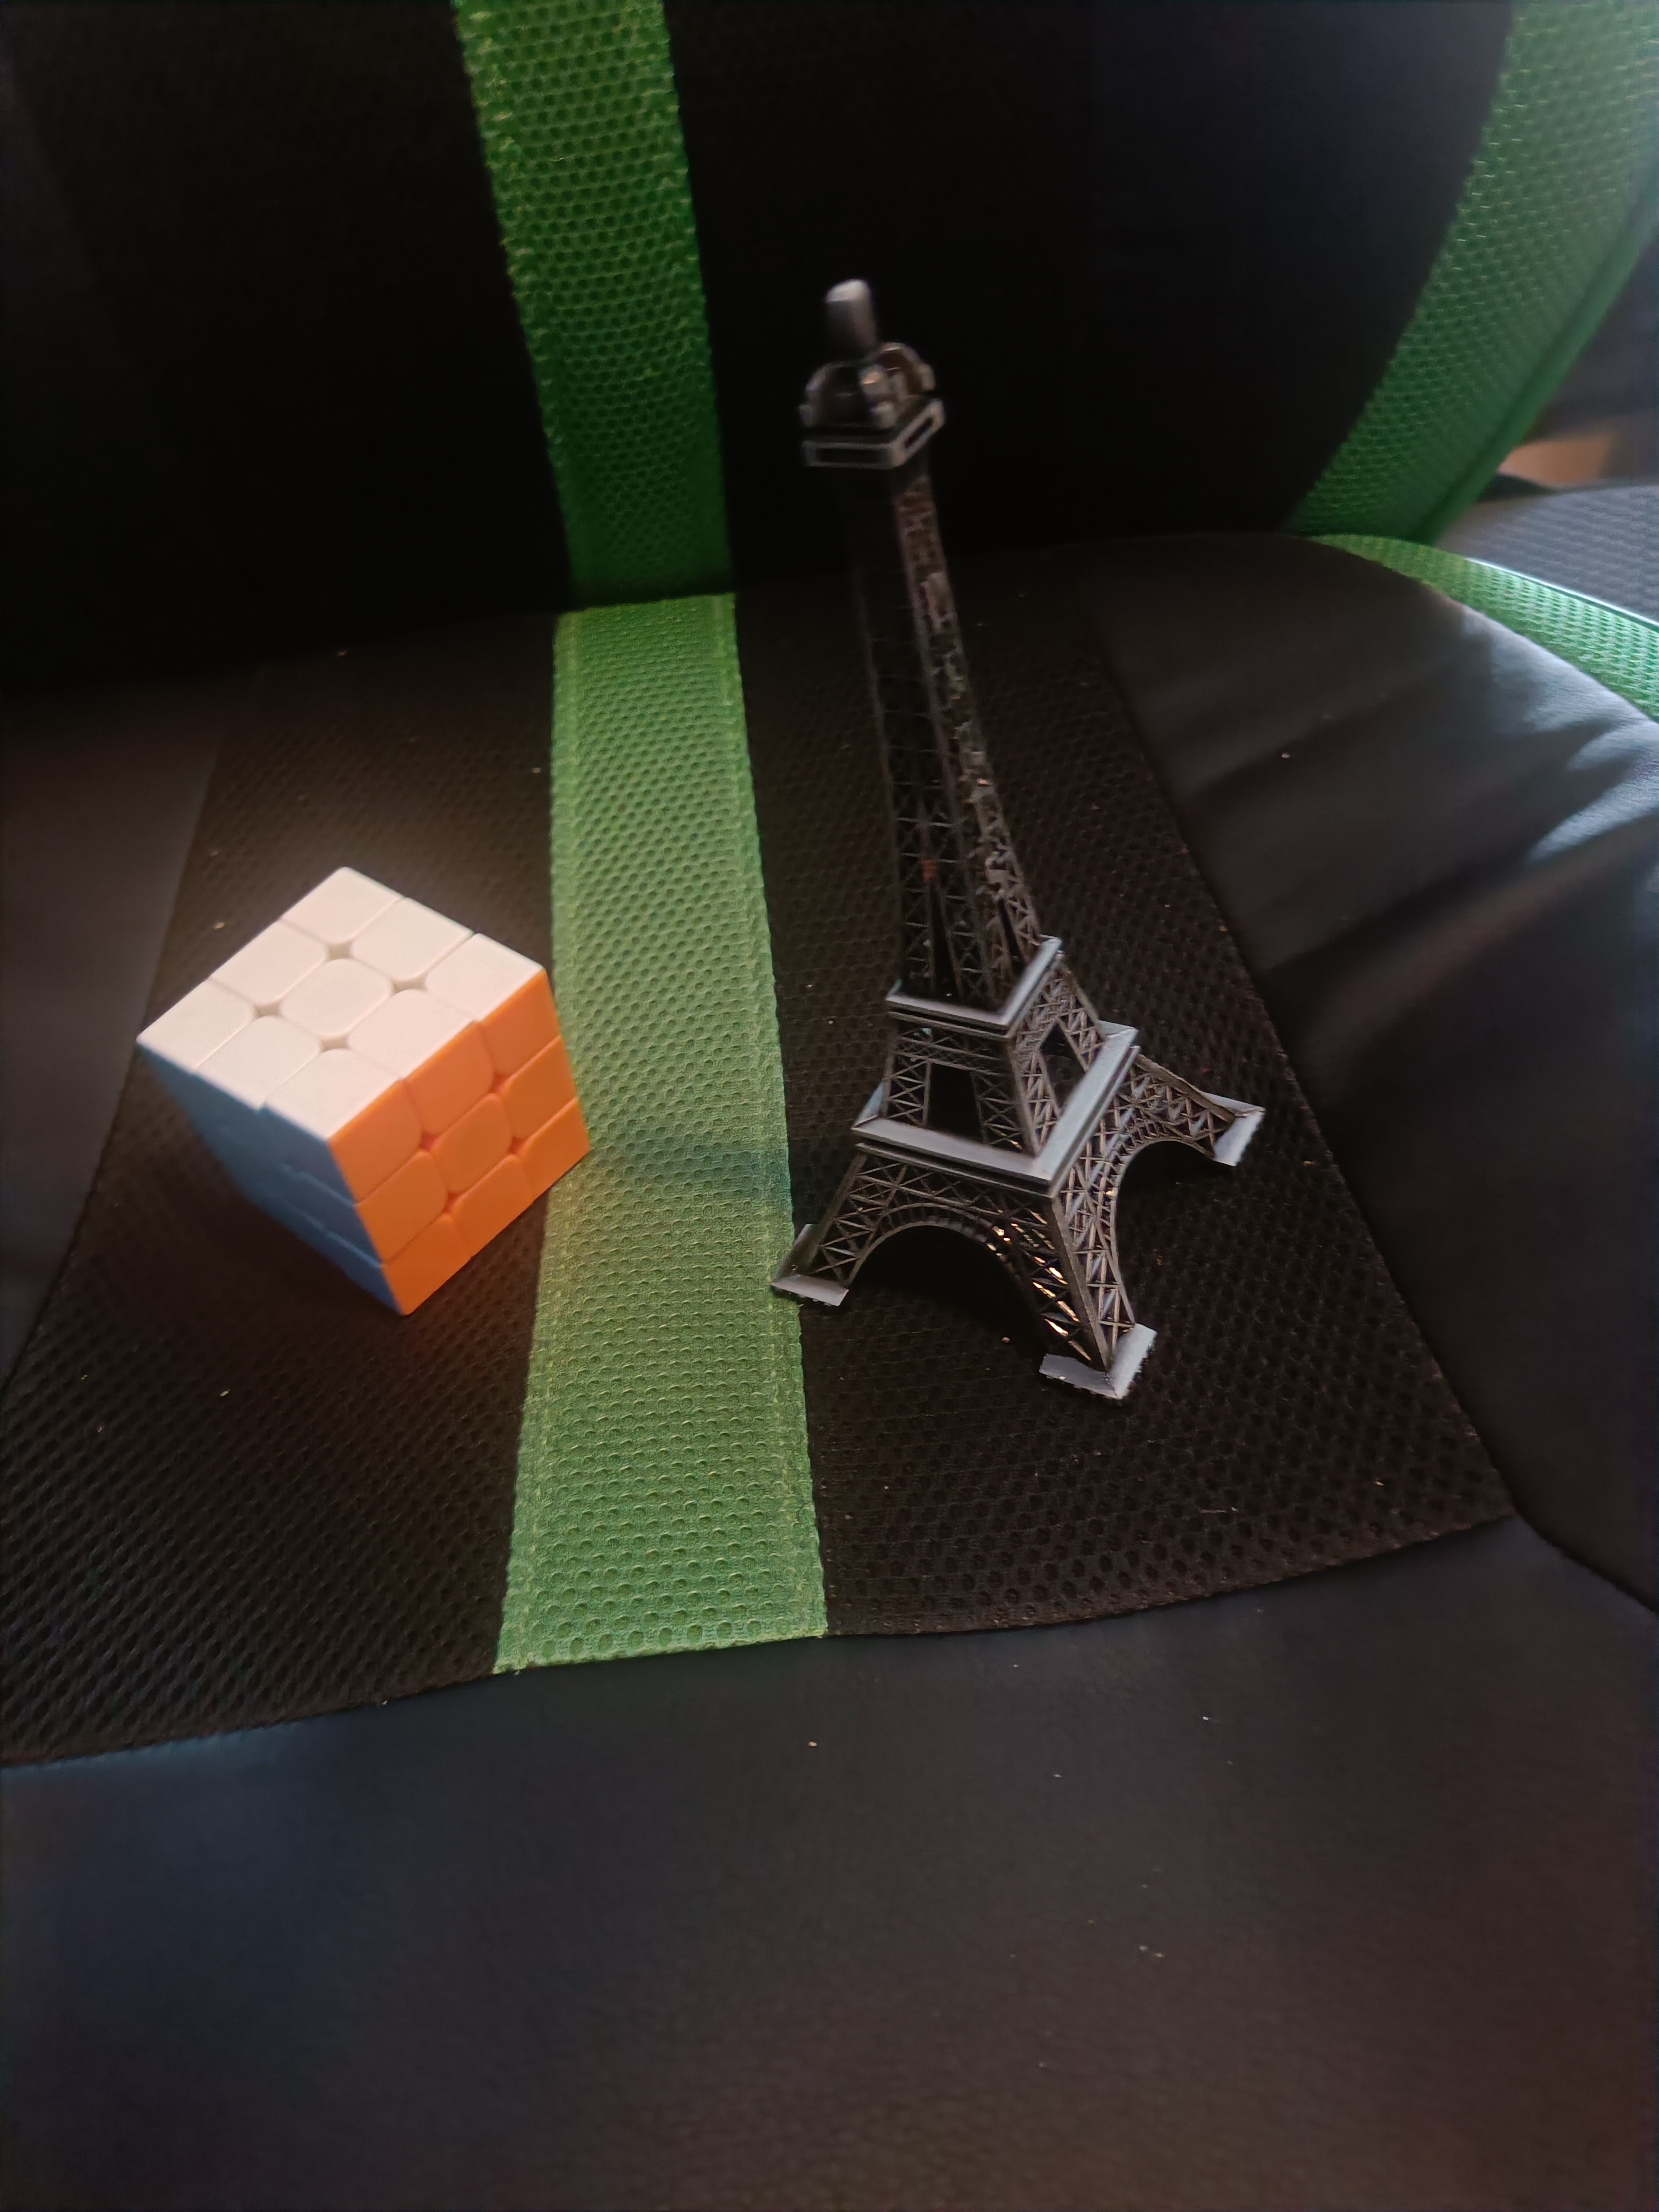Eiffel Tower: (728, 260, 1270, 1406)
Rubiks Cube: (131, 843, 603, 1327)
